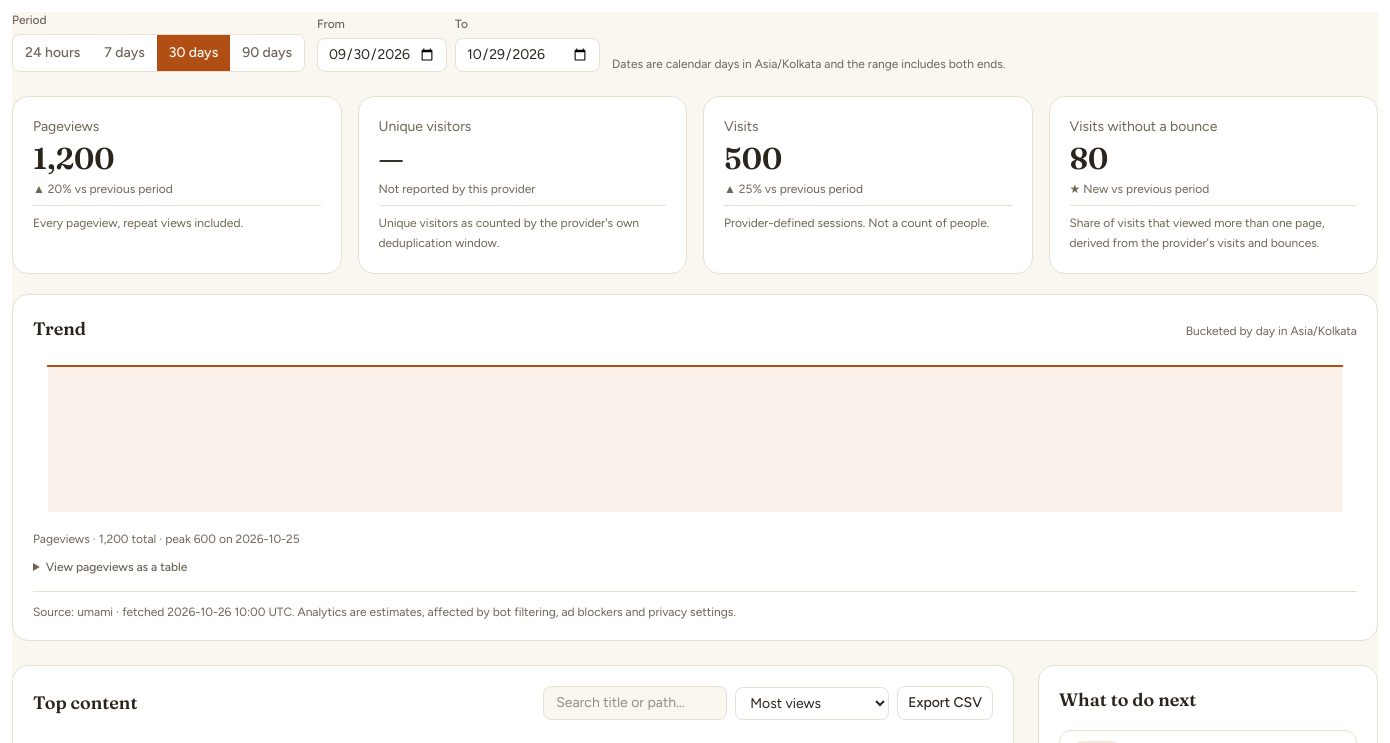
Scenario: <AnalyticsDashboard /> › keeps the last good numbers and explains a provider outage
Expected: the text "1,200" is shown, [33,140,114,177]
Click the button "90 days" at (267, 53), box [230,35,304,71]
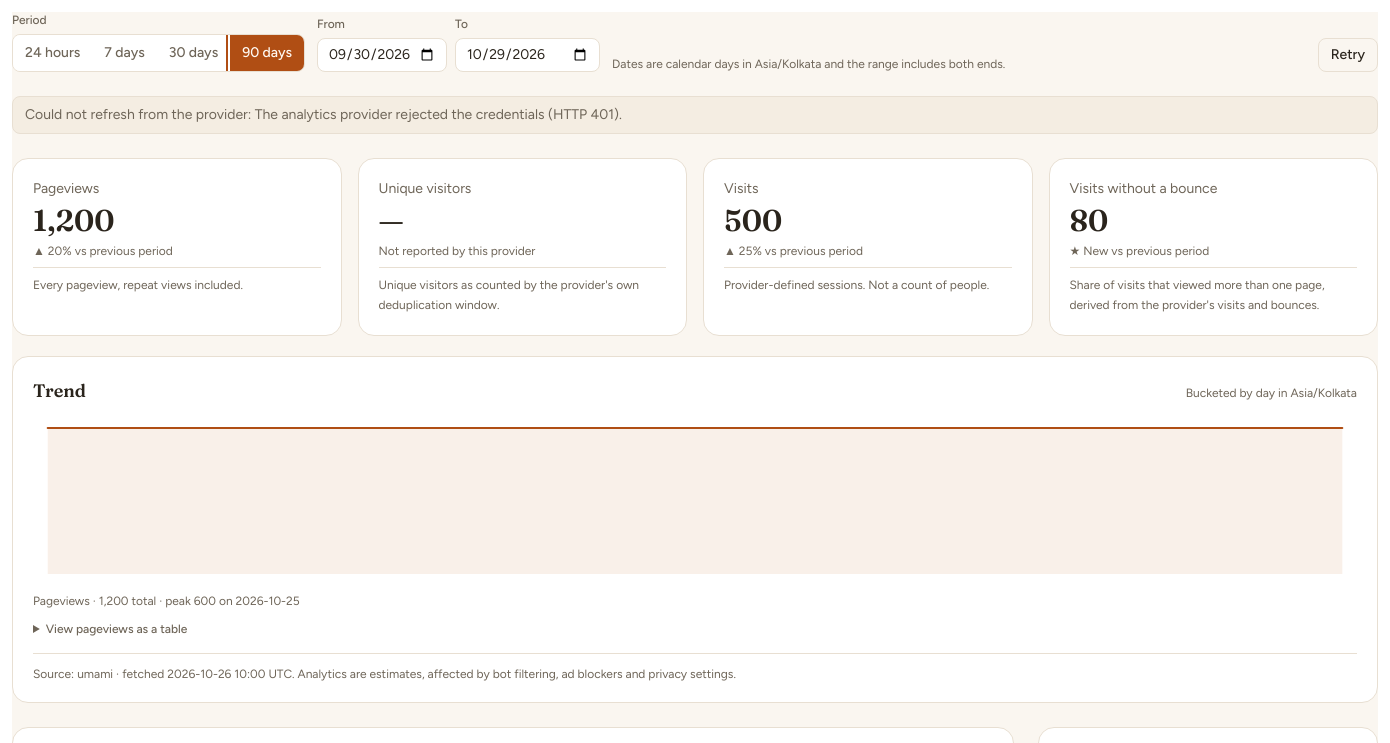
Expected: the text "1,200" is shown, [33,202,114,239]
Expected: the text "Could not refresh from the provider" is shown, [25,106,622,123]
Expected: the button "Retry" is shown, [1318,38,1378,72]
